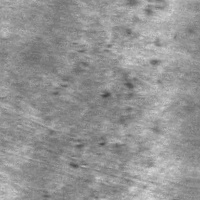rolled-in_scale: (67, 55, 141, 173)
